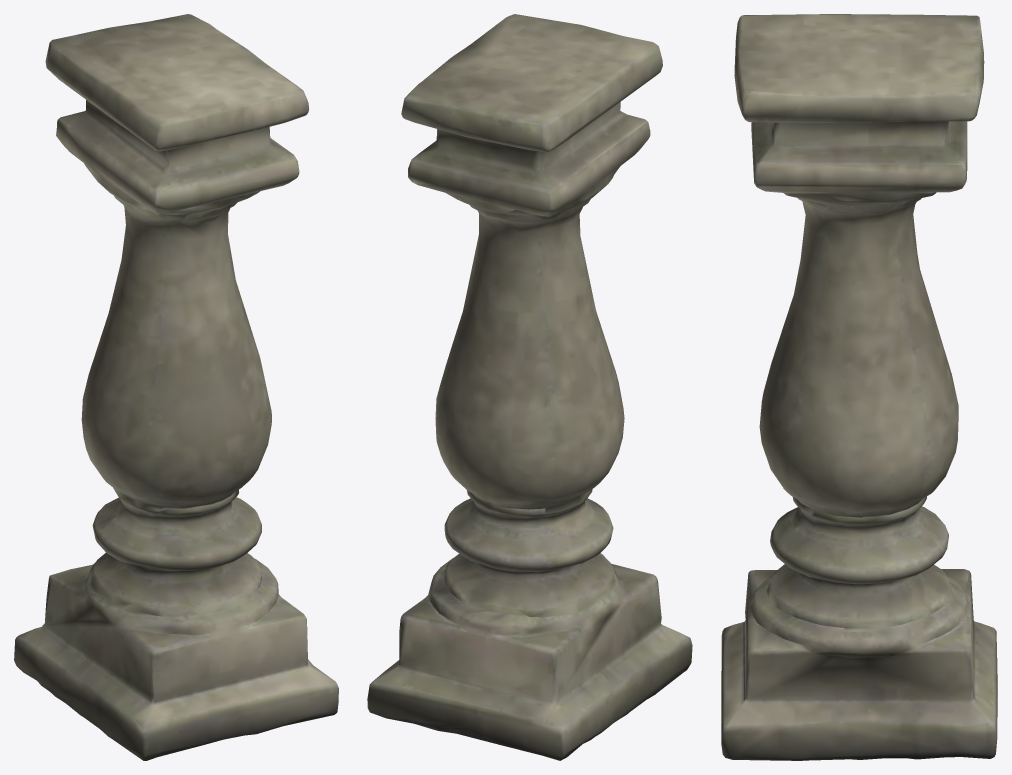
Rendered from rustic-limestone-balustrade-v001.glb.
3 renders of one model, left to right at view 1: azimuth 30°, elevation 25°; view 2: azimuth 150°, elevation 25°; view 3: azimuth 270°, elevation 25°, orthographic. The views are drawn at different scales.
Visible parts, largest first — view 1: rustic-limestone-balustrade; view 2: rustic-limestone-balustrade; view 3: rustic-limestone-balustrade.
Part boxes in pixels (<box>): rustic-limestone-balustrade: <box>14,14,338,760</box>; rustic-limestone-balustrade: <box>367,14,692,760</box>; rustic-limestone-balustrade: <box>721,14,997,760</box>.
Bounding box in the file's own units: 0.3519 × 1.06 × 0.4004.
1 material, 1 textured.
